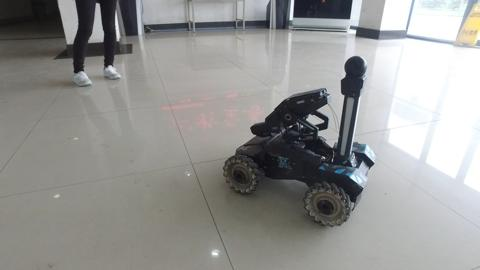chariot: (221, 54, 377, 228)
